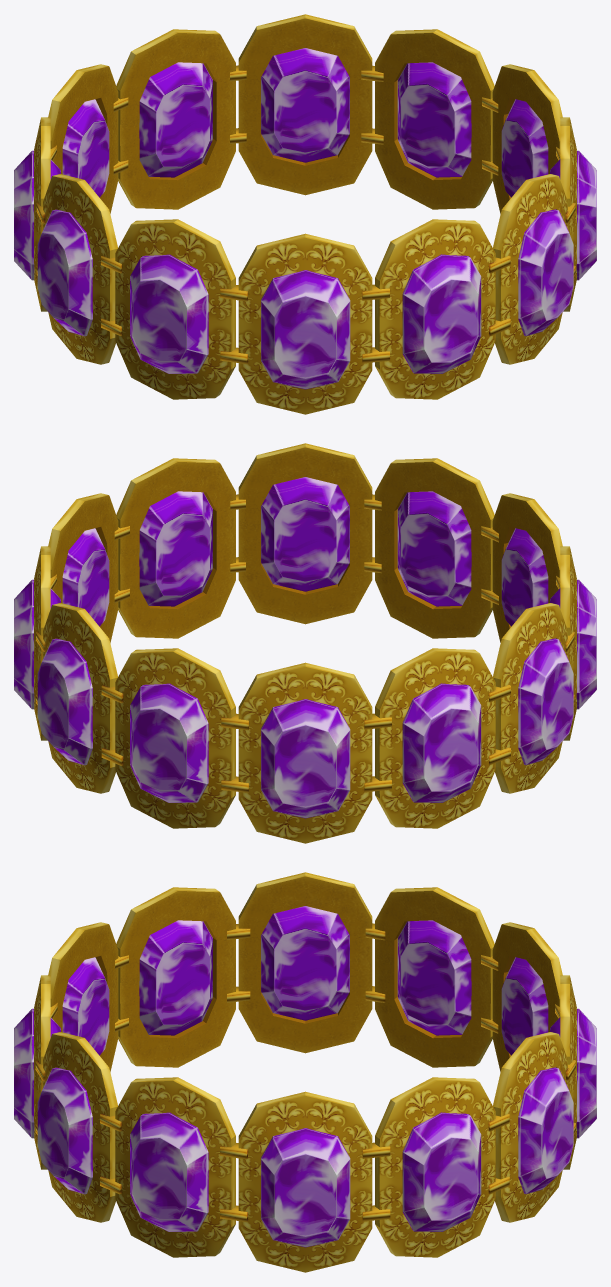
The model's file is bracelet_02.fbx.
3 renders of one model, top to bottom at view 1: azimuth 30°, elevation 25°; view 2: azimuth 150°, elevation 25°; view 3: azimuth 270°, elevation 25°, orthographic.
Parts seen in each view (by area): view 1: bracelet_02; view 2: bracelet_02; view 3: bracelet_02.
Boxes of the visible parts, x1,y1,x2,y2 form: bracelet_02: (14,14,596,414); bracelet_02: (14,443,596,843); bracelet_02: (14,872,596,1272).
Bounding box in the file's own units: 7.94 × 2.66 × 7.94.
